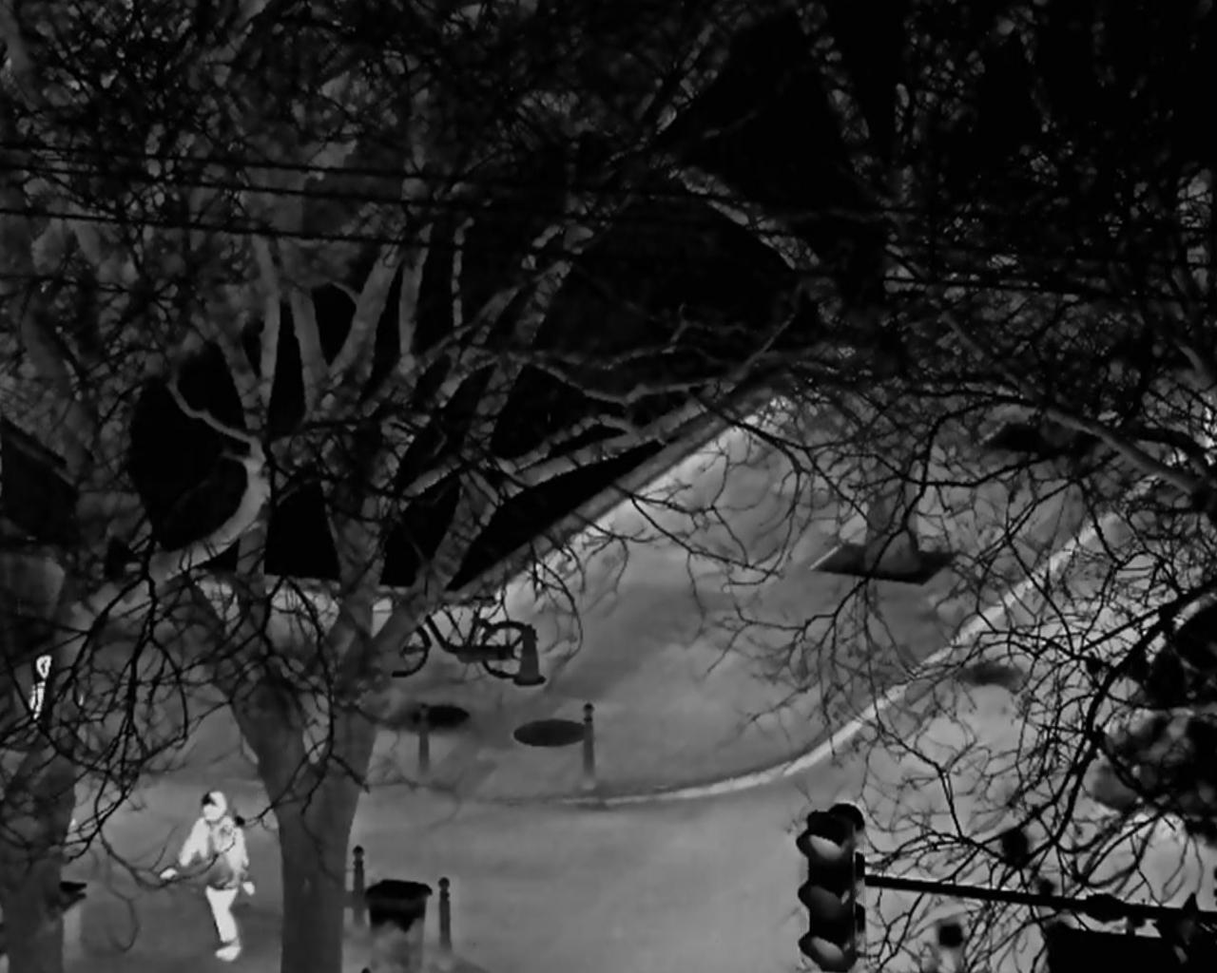person: (158, 787, 257, 962)
